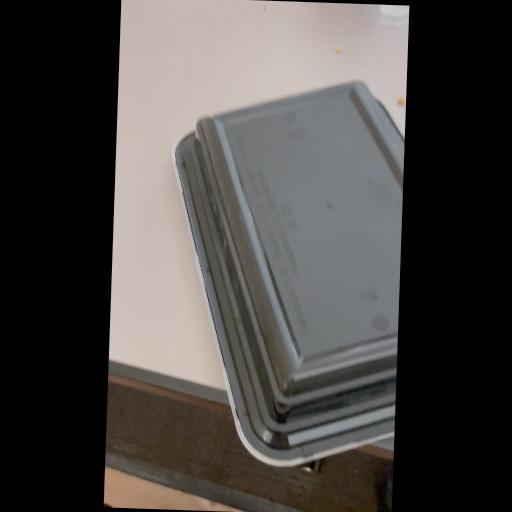rigid_plastic_container: (164, 72, 406, 476)
